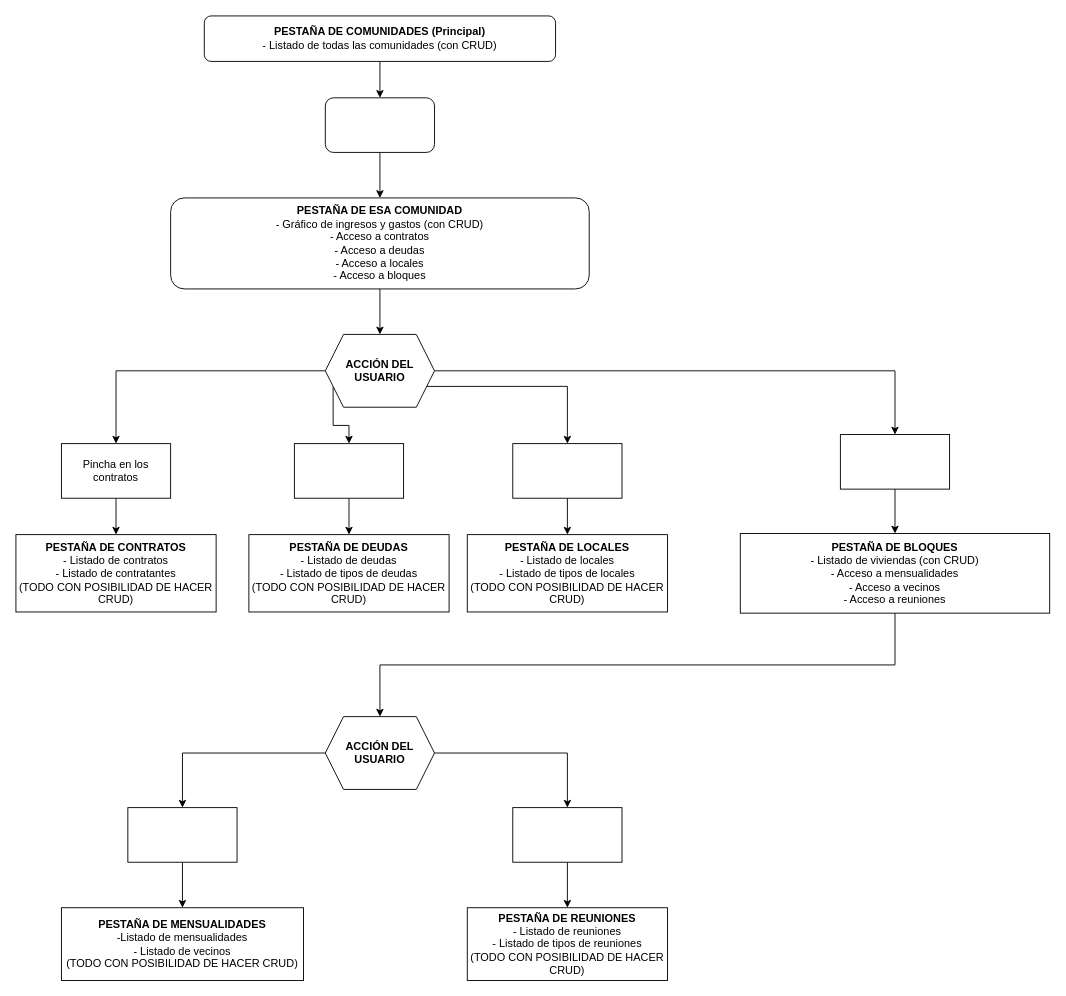
Some shapes in this 1066 by 996 pixel diagram are drawn without their labels. Here are the shapes that lost their labels. From the top down, the centre of each, then its label:
At (x=379, y=124): "El usuario pincha sobre una o agrega".
At (x=348, y=470): "Pincha en las deudas".
At (x=567, y=470): "Pincha en los locales".
At (x=894, y=461): "Pincha en un bloque".
At (x=182, y=834): "Pincha en las mensualidades".
At (x=567, y=834): "Pincha en las reuniones".
